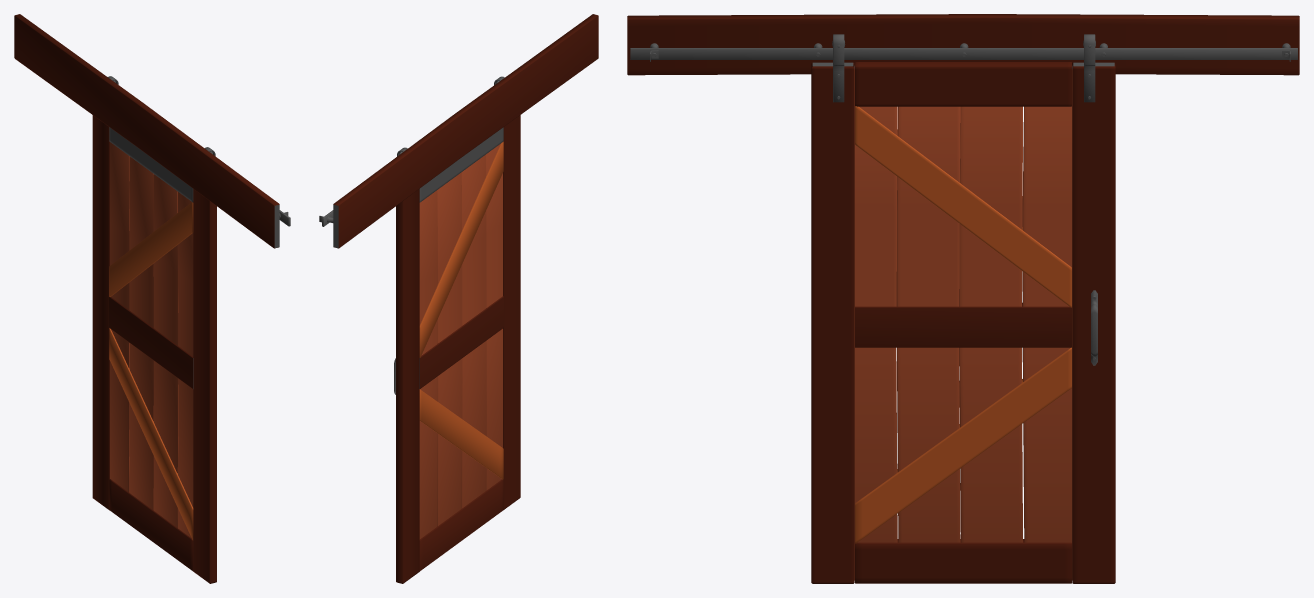
File: kjg_door.fbx
3 views of the same model, side by side, from view 1: azimuth 30°, elevation 25°; view 2: azimuth 150°, elevation 25°; view 3: azimuth 270°, elevation 25° (orthographic). The views are drawn at different scales.
Visible parts, largest first — view 1: Cube.006, Cube.001, Cube.004, Cube.002; view 2: Cube.006, Cube.001, Cube.004, Cube.002; view 3: Cube.006, Cube.001, Cube.004, Cube.003, Cube.002.
Boxes of the visible parts, box(x1,y1,x2,y2) form: Cube.006: box(14, 14, 279, 583); Cube.001: box(110, 142, 193, 538); Cube.004: box(109, 202, 193, 540); Cube.002: box(109, 80, 290, 388); Cube.006: box(333, 14, 598, 583); Cube.001: box(419, 143, 502, 539); Cube.004: box(419, 141, 503, 479); Cube.002: box(319, 81, 503, 388); Cube.006: box(627, 14, 1299, 583); Cube.001: box(854, 69, 1072, 580); Cube.004: box(855, 106, 1071, 543); Cube.003: box(630, 34, 1297, 365); Cube.002: box(650, 40, 1297, 365).
Size of the model in its own units: 0.1513 by 2.74 by 2.97.
